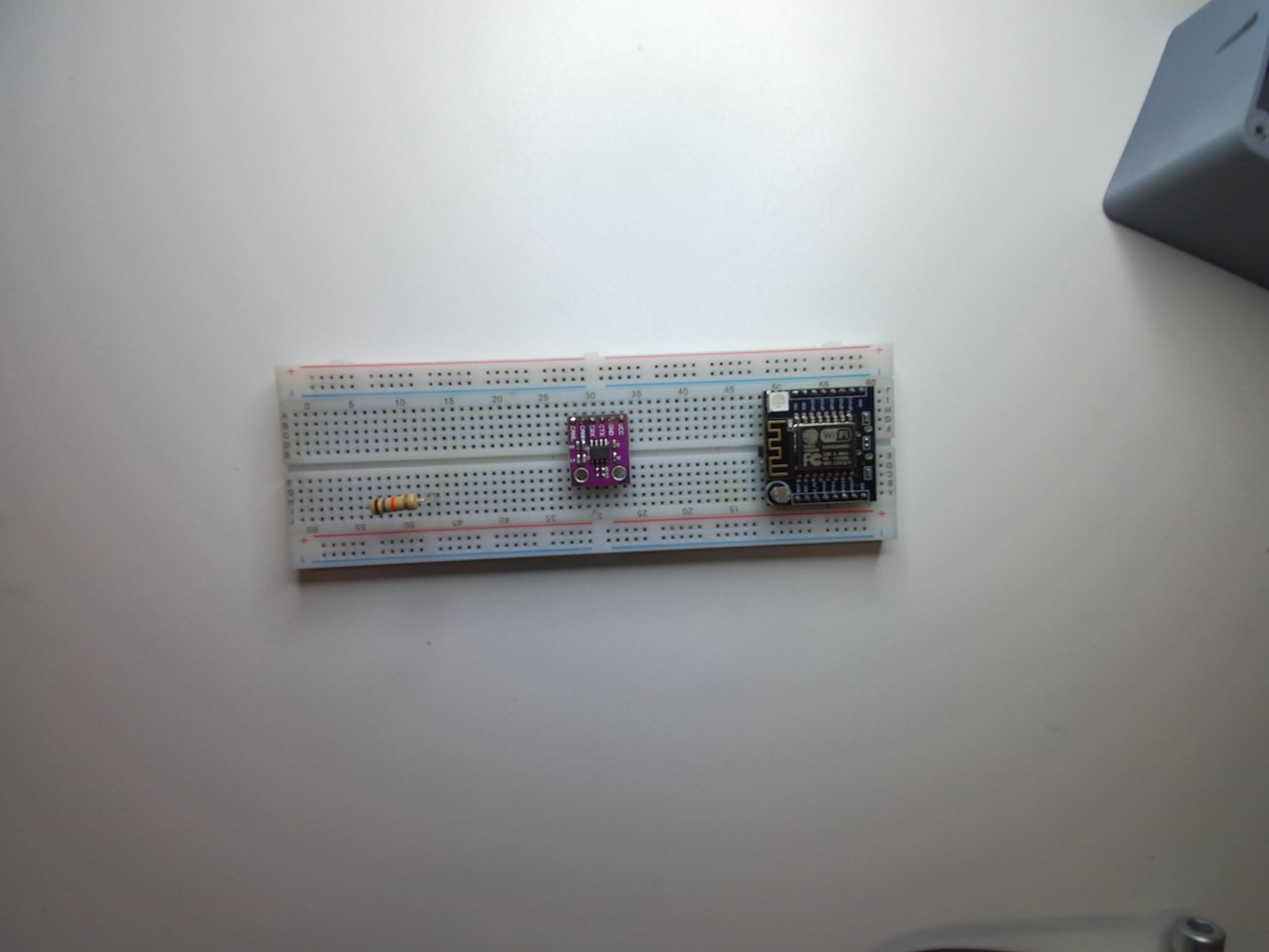base: (272, 344, 899, 581)
esp: (764, 385, 882, 507)
purple-board: (565, 411, 631, 498)
resistor-big: (371, 494, 421, 516)
